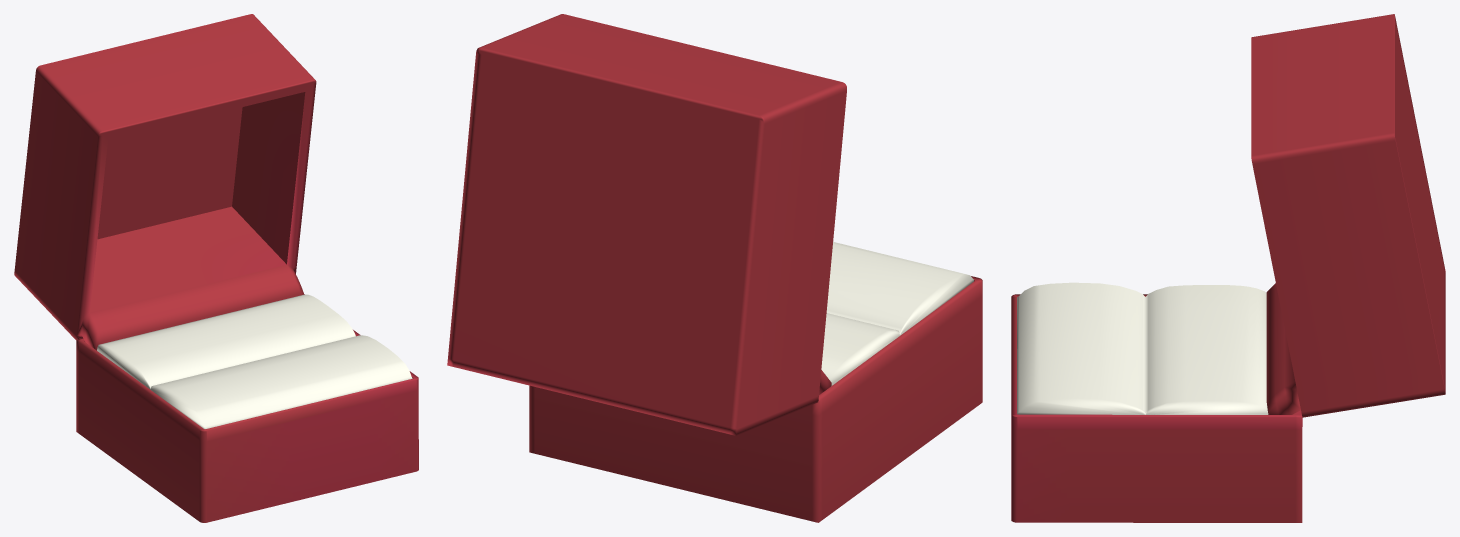
Rendered from Ring_box.fbx.
The picture shows the model from 3 angles, left to right: view 1: azimuth 30°, elevation 25°; view 2: azimuth 150°, elevation 25°; view 3: azimuth 270°, elevation 25°; orthographic projection. The views are drawn at different scales.
Parts seen in each view (by area): view 1: Ring_box; view 2: Ring_box; view 3: Ring_box.
Boxes of the visible parts, x1,y1,x2,y2 form: Ring_box: (14, 14, 418, 522); Ring_box: (447, 14, 982, 522); Ring_box: (1011, 14, 1445, 522).
Bounding box in the file's own units: 3.4 × 4.99 × 5.07.
1 material, 1 textured.
